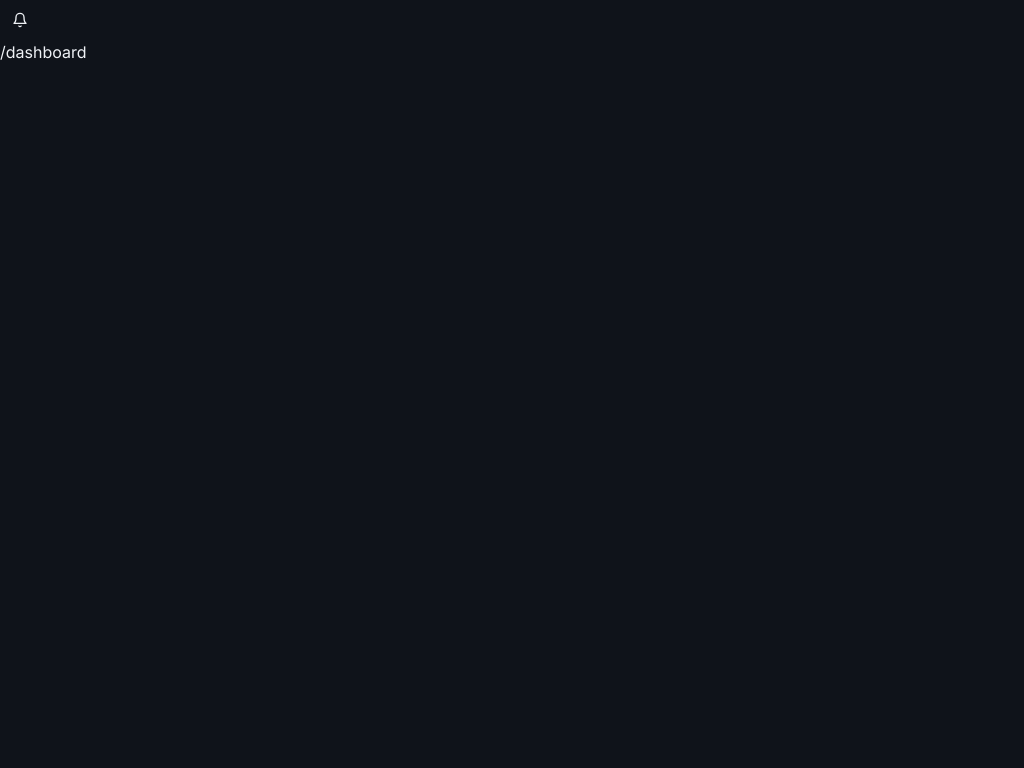
Test case: NotificationPanel — the stored bell › has an empty state
What coordinates should you click on to do the following:
click the button named "0 unread notifications"
I would click on:
 (20, 20)
Its box is left=0, top=0, right=40, bottom=40.
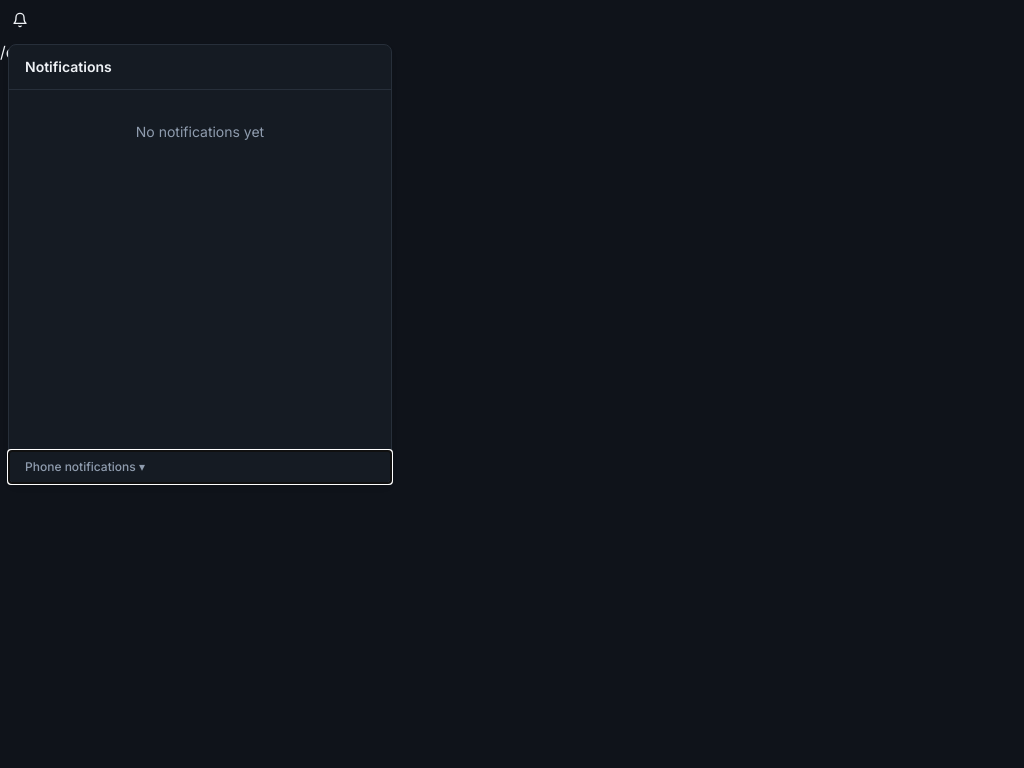
Result: the text "No notifications yet" is shown at left=136, top=123, right=264, bottom=140
